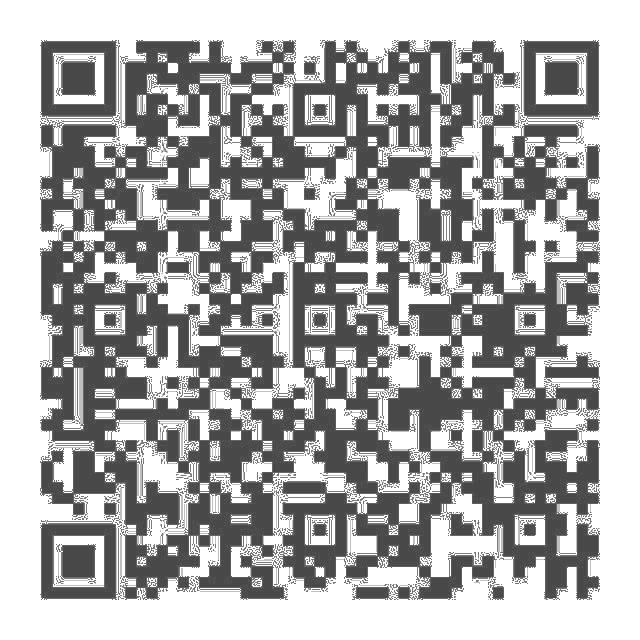qr_code: (29, 32, 608, 610)
